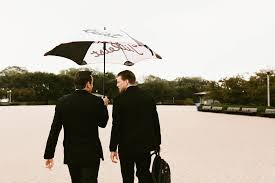Bad: (44, 70, 155, 183)
